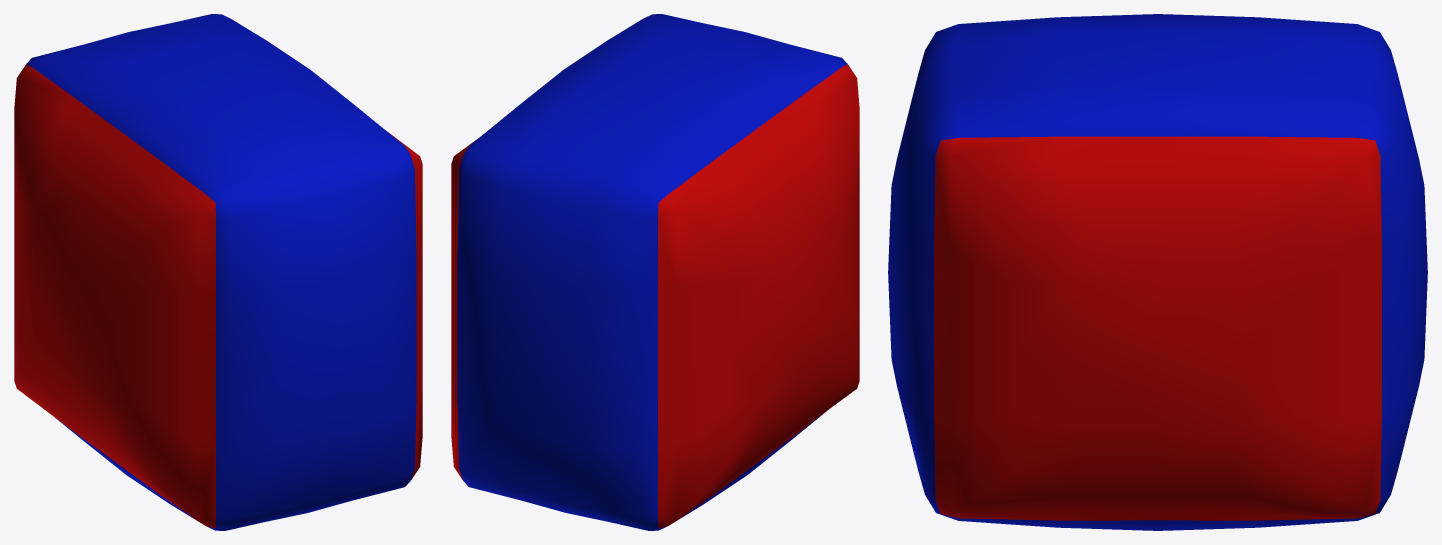
The model's file is Baby-Brick-Webview.glb.
3 views of the same model, side by side, from view 1: azimuth 30°, elevation 25°; view 2: azimuth 150°, elevation 25°; view 3: azimuth 270°, elevation 25° (orthographic). The views are drawn at different scales.
Visible parts, largest first — view 1: Baby-Brick; view 2: Baby-Brick; view 3: Baby-Brick.
Boxes of the visible parts, x1,y1,x2,y2 form: Baby-Brick: (14,14,422,530); Baby-Brick: (451,14,859,530); Baby-Brick: (888,14,1427,530).
Size of the model in its own units: 1.07 by 1.27 by 1.43.
